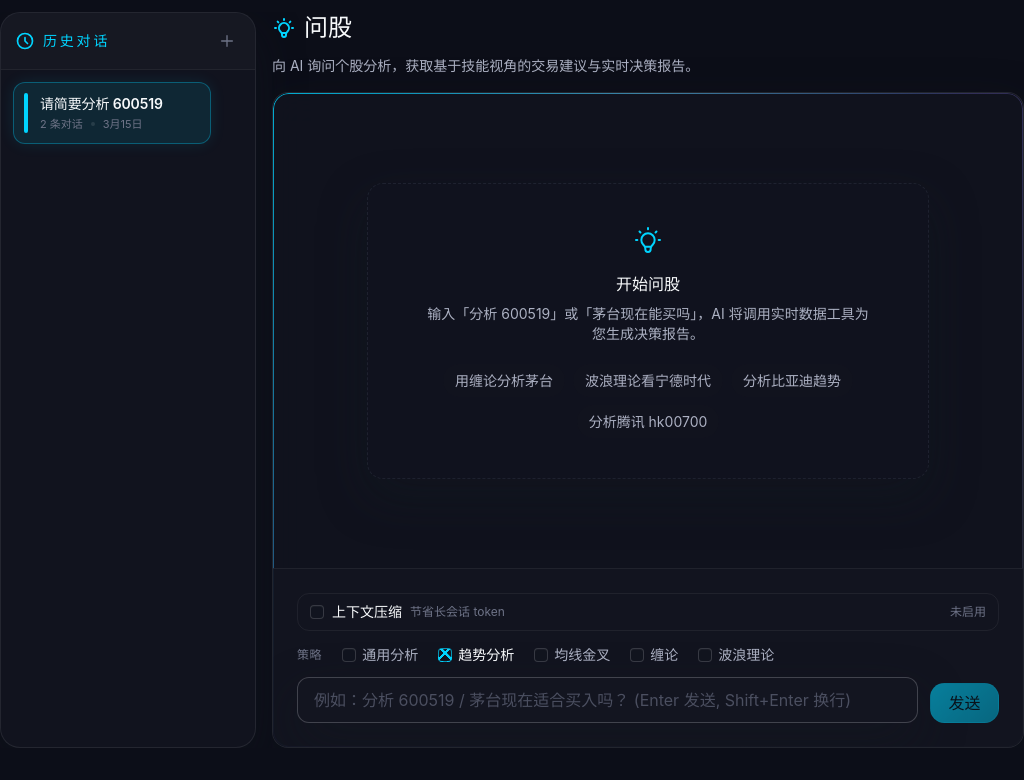
it: ChatPage › caps concrete skill selection at three and re-enables choices after unselecting
Click the checkbox labelled "均线金叉" at (541, 655), box [534,648,548,662]
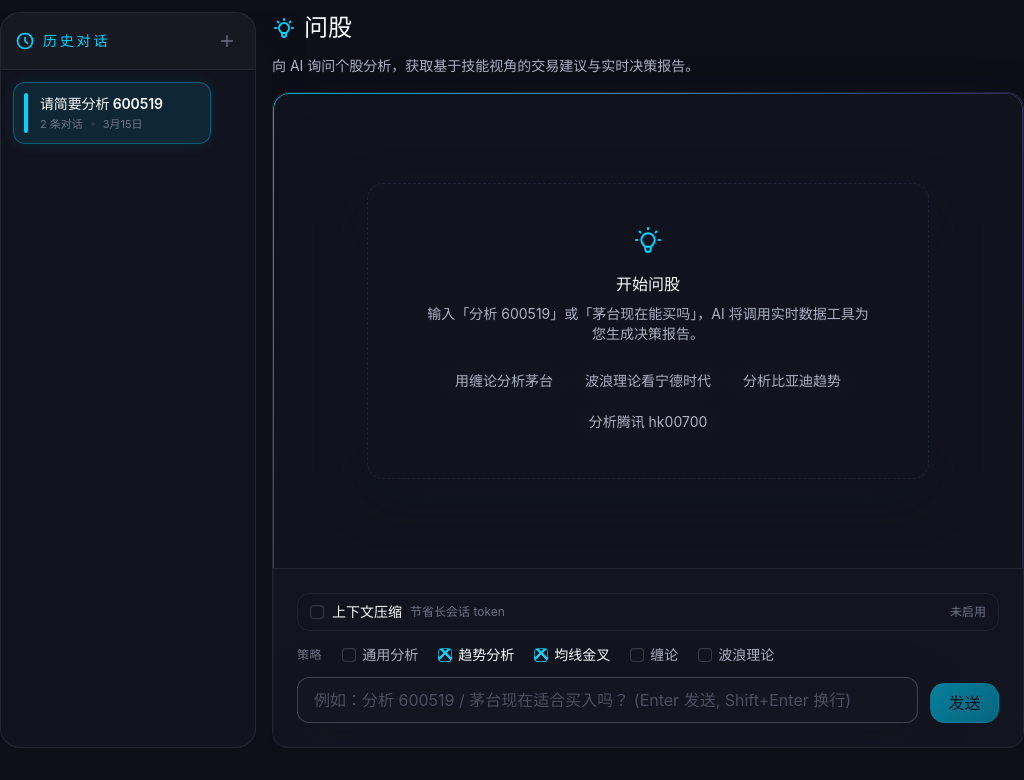
Click the checkbox labelled "缠论" at (637, 655), box [630,648,644,662]
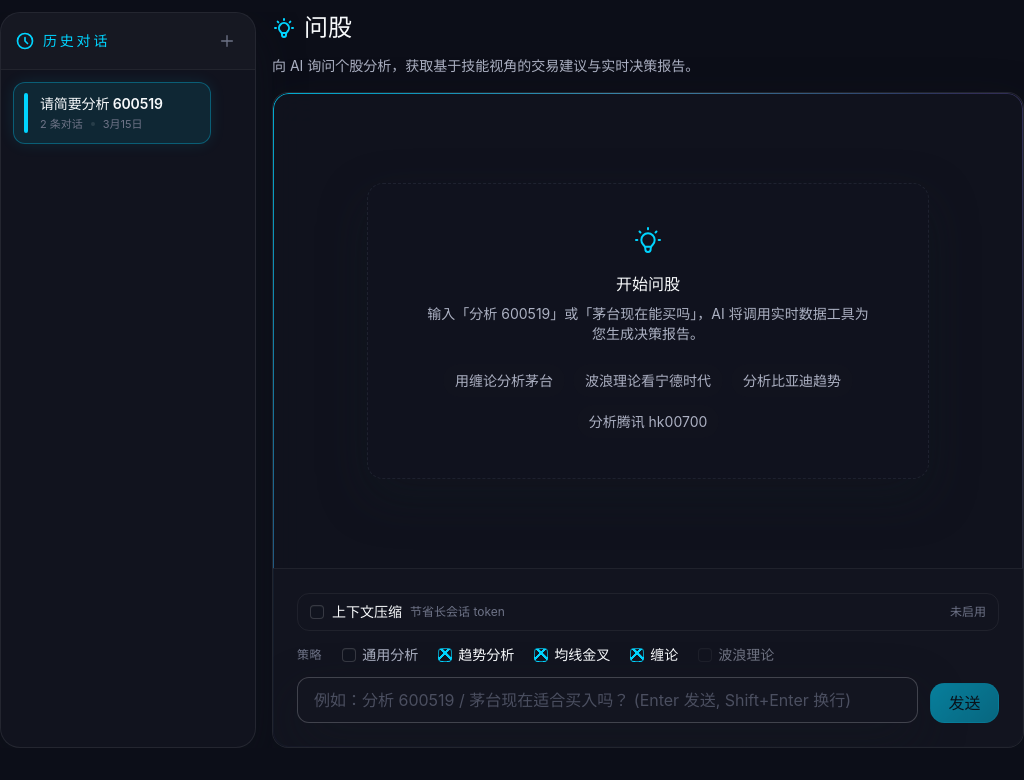
Click the checkbox labelled "均线金叉" at (541, 655), box [534,648,548,662]
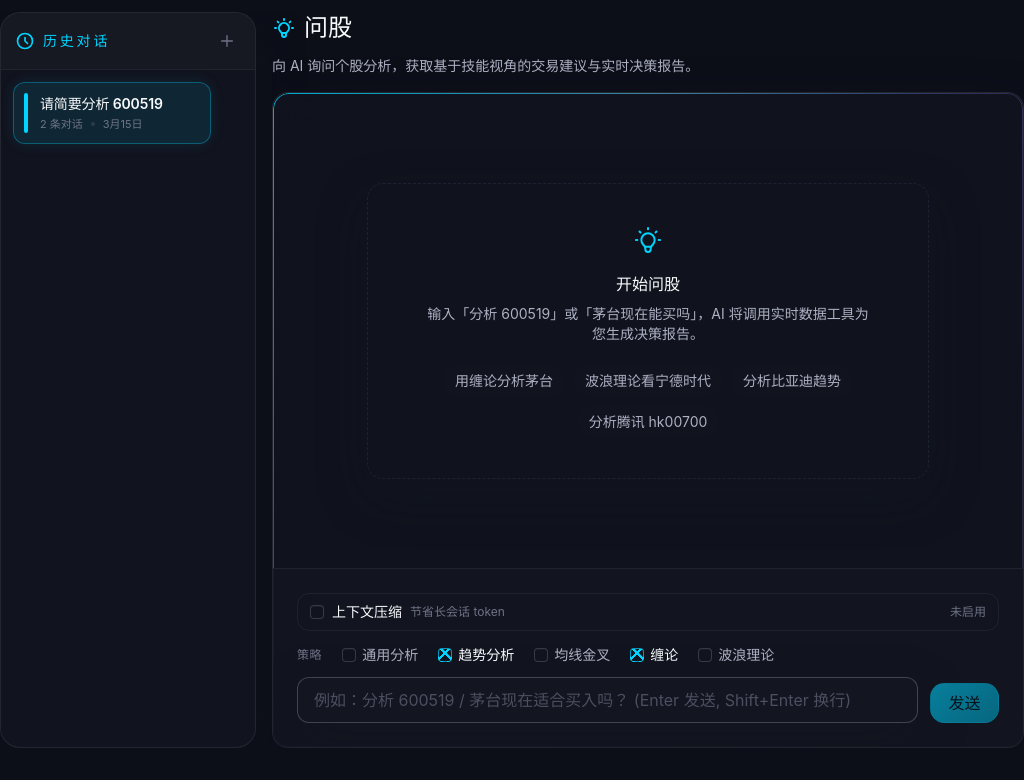
Expected: the checkbox labelled "波浪理论" is enabled, [698,648,712,662]
